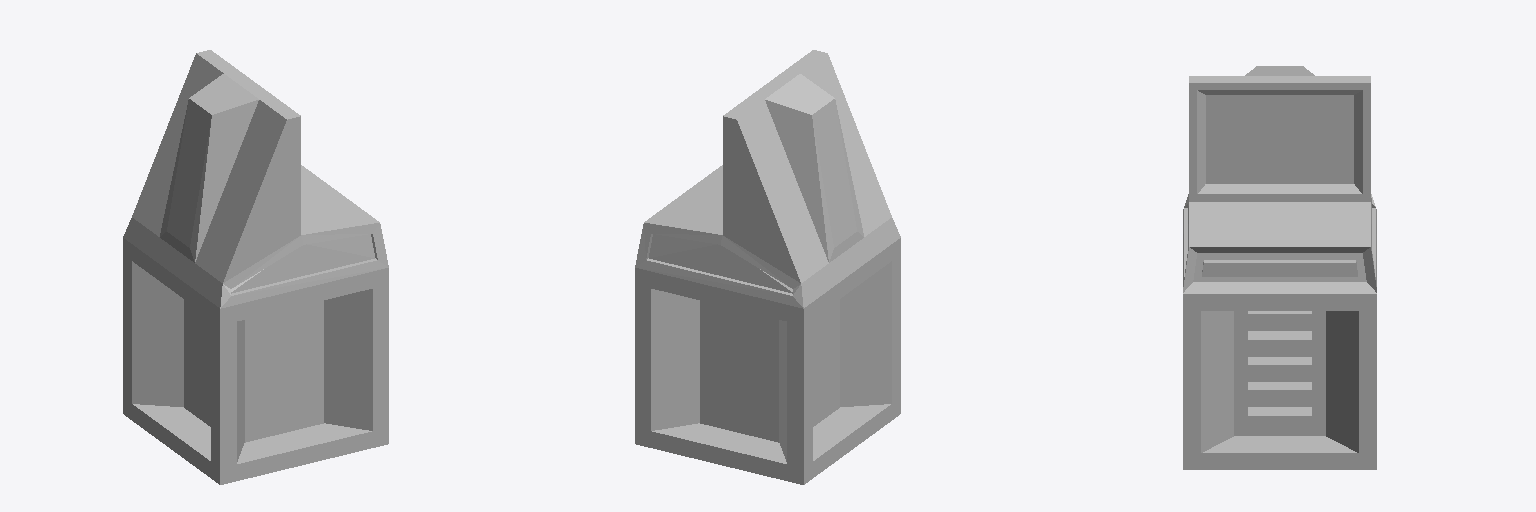
The model's file is FoFComp.obj.
3 renders of one model, left to right at view 1: azimuth 30°, elevation 25°; view 2: azimuth 150°, elevation 25°; view 3: azimuth 270°, elevation 25°, orthographic.
Visible parts, largest first — view 1: Cube; view 2: Cube; view 3: Cube.
Part boxes in pixels (x1,y1,x2,y2): Cube: (123,50,388,484); Cube: (635,50,900,484); Cube: (1183,66,1376,469).
Bounding box in the file's own units: 1 × 1.96 × 1.